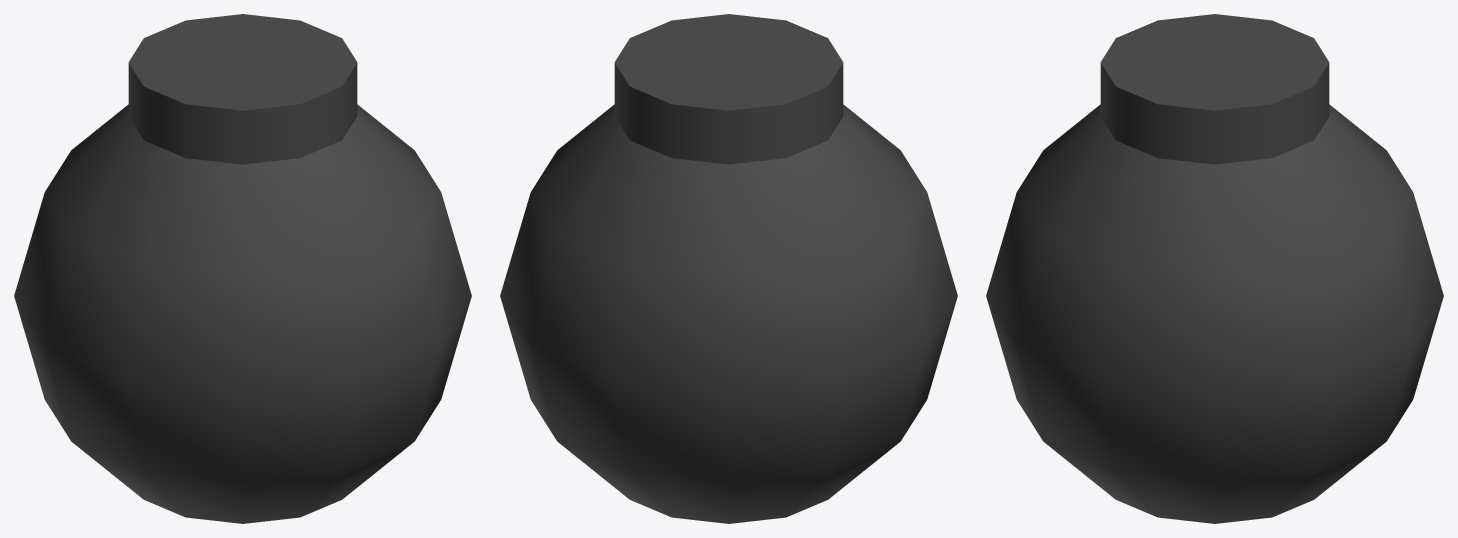
File: Char_GT_Bomb.FBX
The picture shows the model from 3 angles, left to right: view 1: azimuth 30°, elevation 25°; view 2: azimuth 150°, elevation 25°; view 3: azimuth 270°, elevation 25°; orthographic projection.
Visible parts, largest first — view 1: Bomb; view 2: Bomb; view 3: Bomb.
Part boxes in pixels (x1,y1,x2,y2): Bomb: [14, 14, 471, 523]; Bomb: [500, 14, 957, 523]; Bomb: [986, 14, 1443, 523].
Size of the model in its own units: 20.29 by 21.56 by 20.29.
